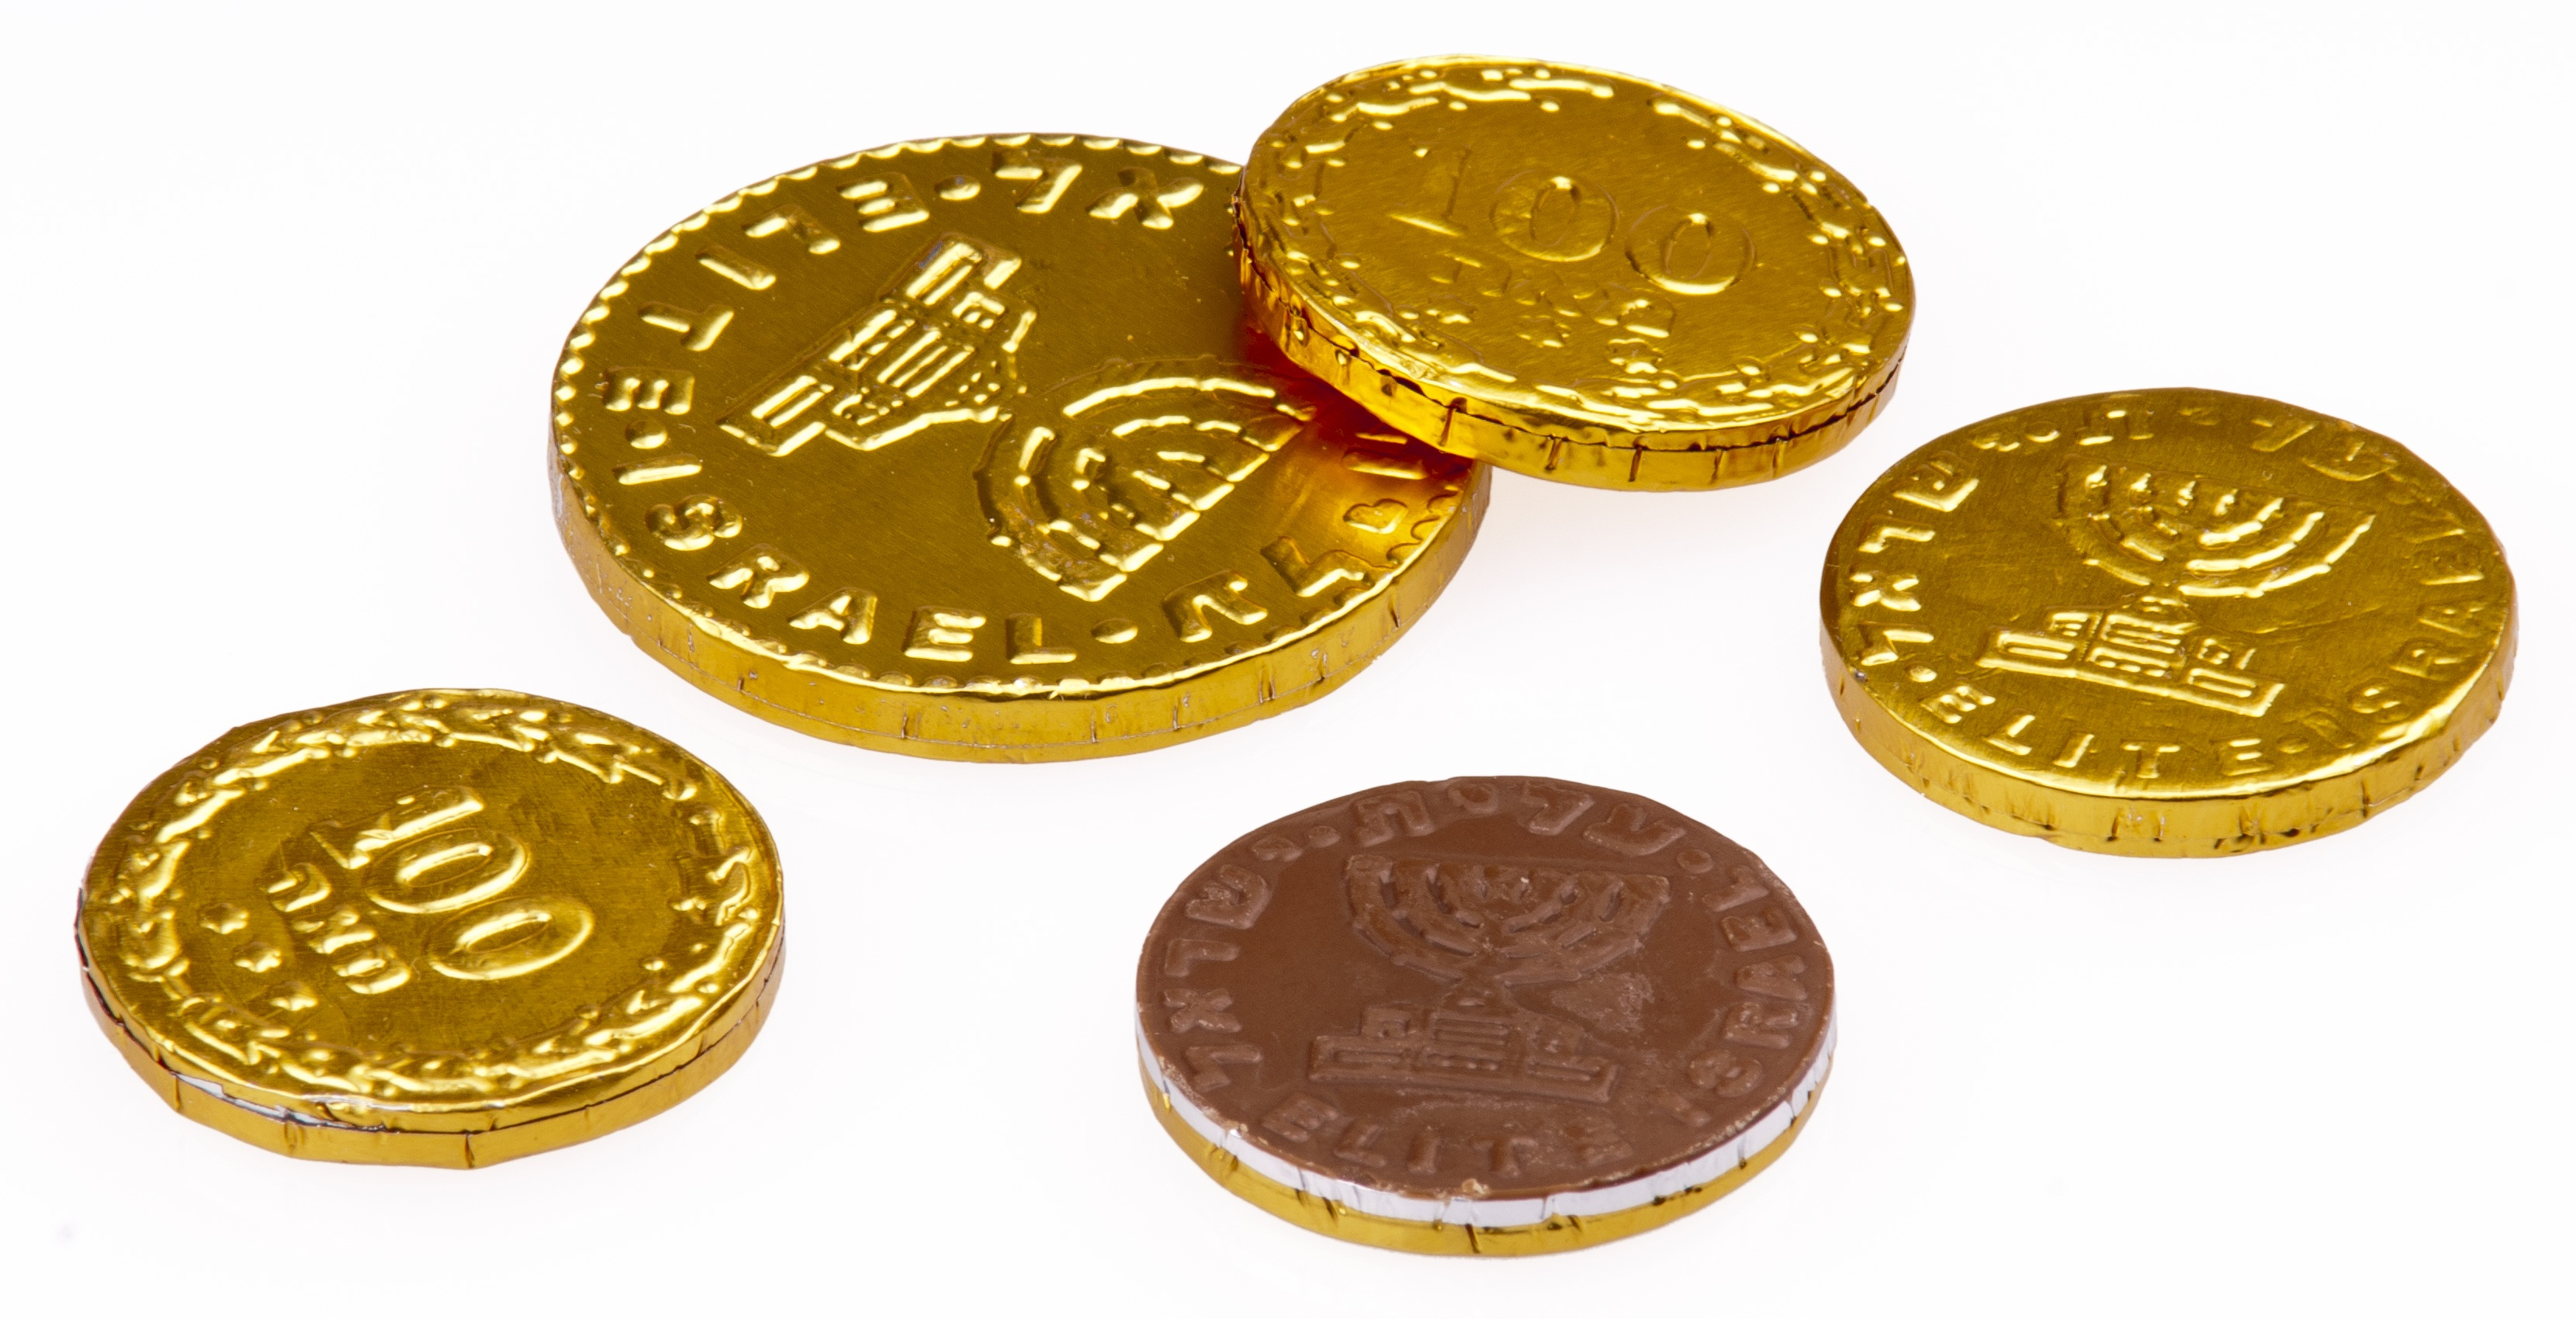coin: (548, 123, 1488, 771), (74, 681, 794, 1176), (1128, 767, 1845, 1250), (1816, 384, 2522, 866), (1231, 56, 1919, 500)
